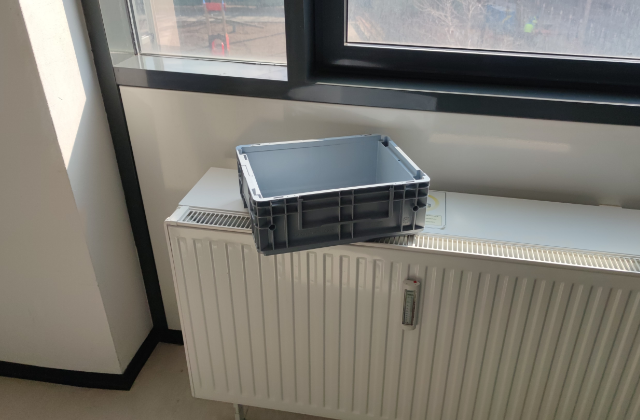Box: (235, 130, 430, 257)
